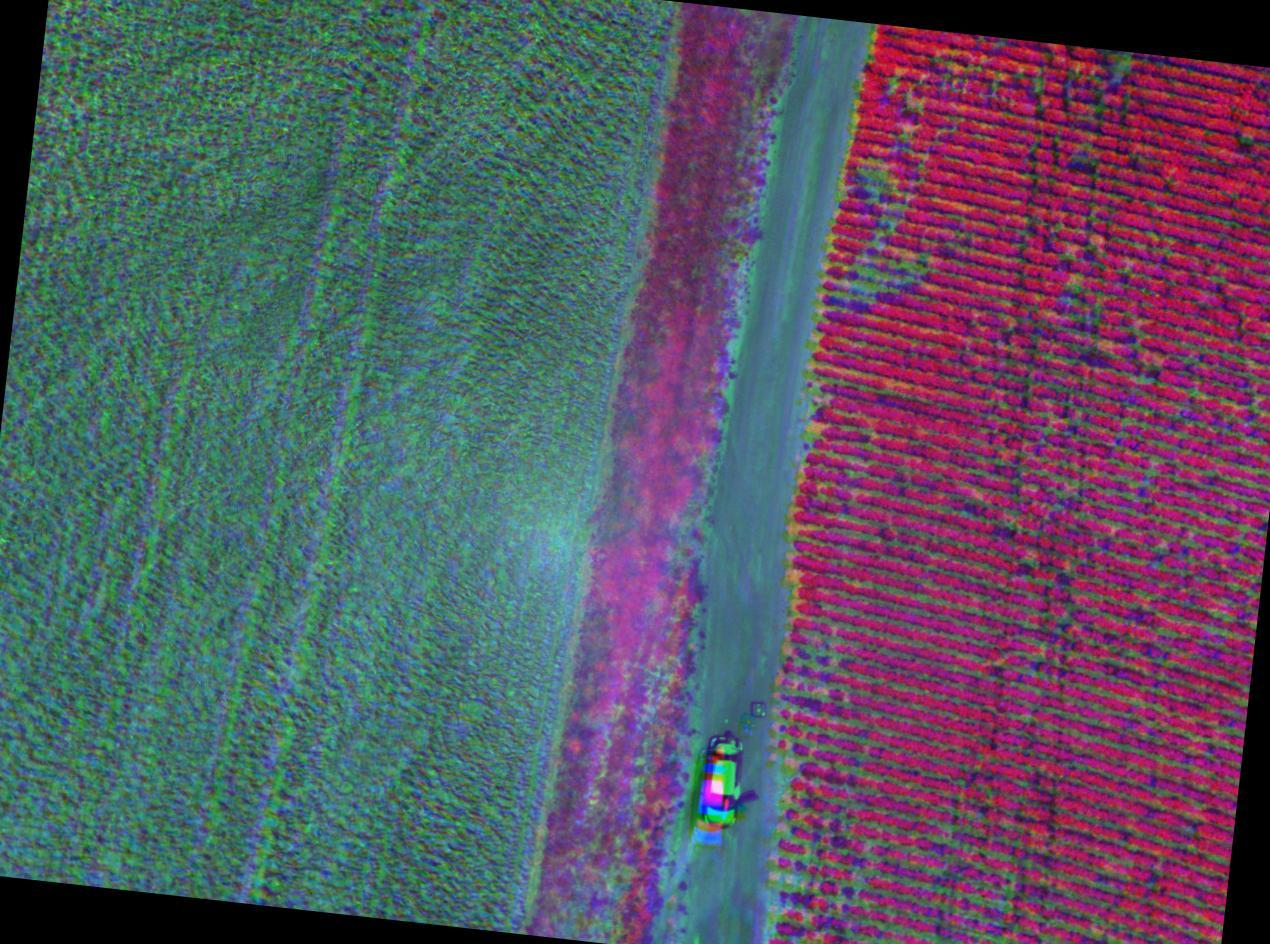dc: (776, 733, 841, 944), (918, 819, 1013, 938), (832, 245, 957, 332), (857, 159, 915, 234), (779, 633, 838, 703)
